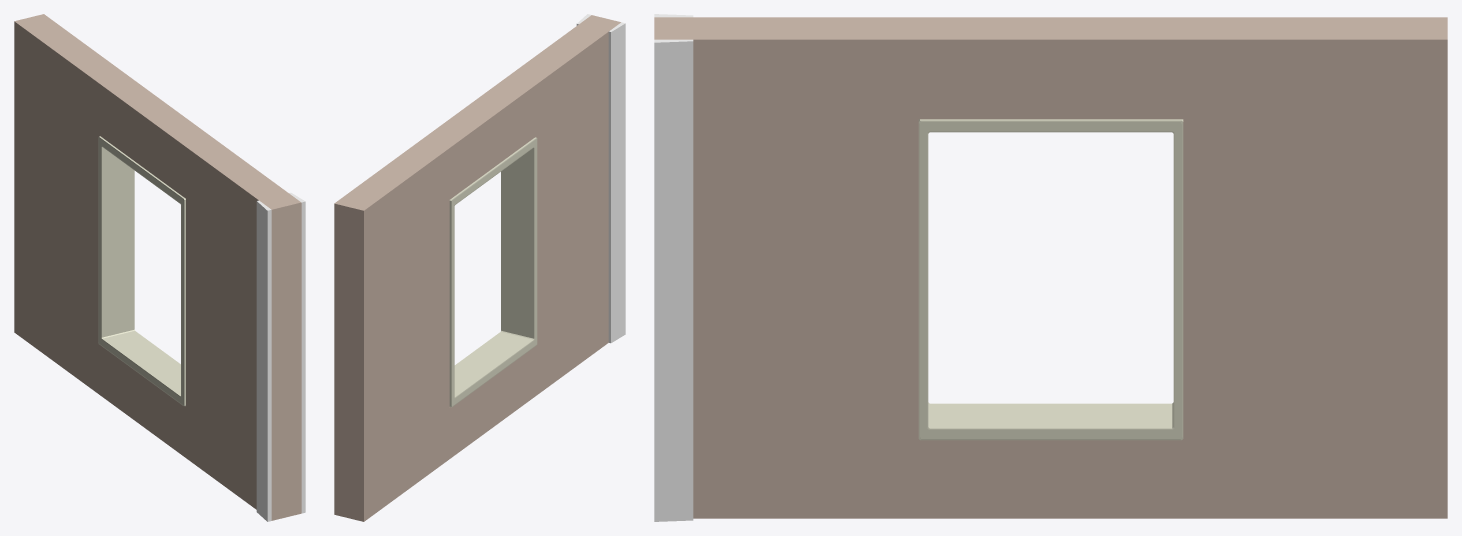
File: WallWindowSingle3.fbx
3 renders of one model, left to right at view 1: azimuth 30°, elevation 25°; view 2: azimuth 150°, elevation 25°; view 3: azimuth 270°, elevation 25°, orthographic. The views are drawn at different scales.
Visible parts, largest first — view 1: Wall_Window; view 2: Wall_Window; view 3: Wall_Window.
Part boxes in pixels (x1,y1,x2,y2): Wall_Window: (14,14,305,521); Wall_Window: (334,14,625,521); Wall_Window: (654,14,1447,521).
Bounding box in the file's own units: 3 × 2 × 0.2572.
